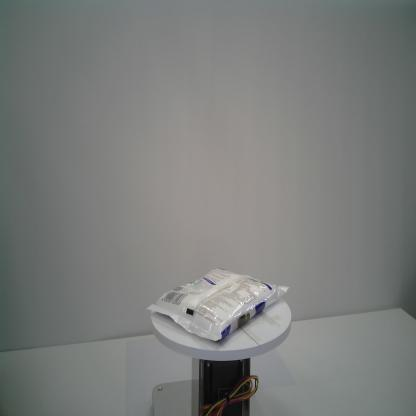Seasoner: (145, 267, 290, 344)
